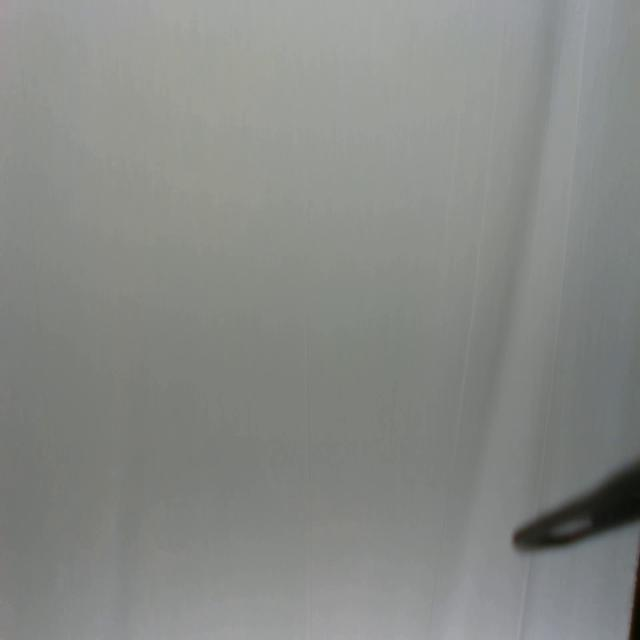crease: (535, 0, 588, 494), (457, 0, 509, 454), (302, 316, 316, 640)
